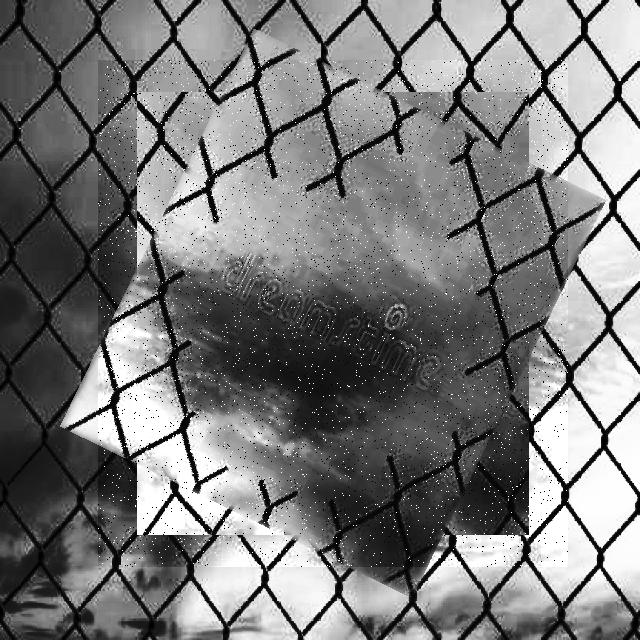anomaly-fence: (98, 60, 568, 567)
